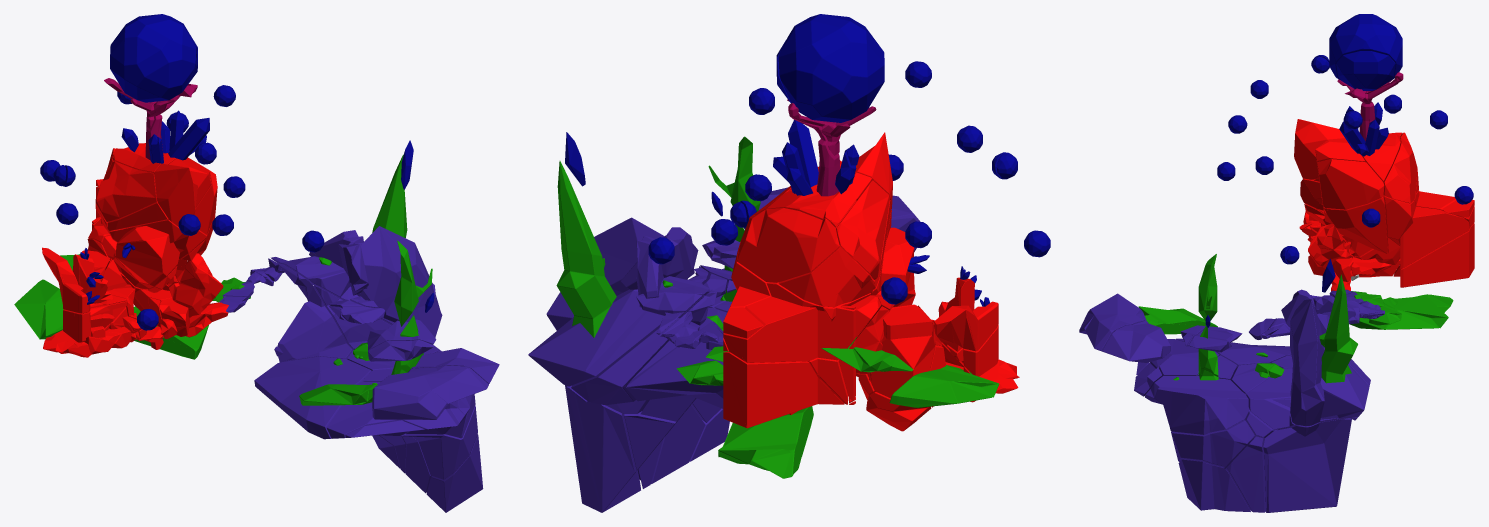
Rendered from tutorial level_0002.fbx.
The picture shows the model from 3 angles, left to right: view 1: azimuth 30°, elevation 25°; view 2: azimuth 150°, elevation 25°; view 3: azimuth 270°, elevation 25°; orthographic projection. The views are drawn at different scales.
Visible parts, largest first — view 1: start, end, floating_balls, pillars, Crystals_1, start_2, start_1, tree, start_3; view 2: end, start, floating_balls, pillars, Crystals_1, start_3, start_2, tree, start_7, start_5; view 3: start, end, floating_balls, pillars, start_3, Crystals_1, start_1, tree, rocks.
Part boxes in pixels (x1,y1,x2,y2): start: (219, 226, 499, 512); end: (42, 143, 228, 357); floating_balls: (40, 14, 324, 330); pillars: (372, 154, 432, 374); Crystals_1: (80, 110, 434, 312); start_2: (14, 279, 63, 339); start_1: (299, 384, 377, 405); tree: (104, 78, 197, 160); start_3: (133, 306, 208, 359); end: (723, 132, 1019, 431); start: (528, 187, 920, 512); floating_balls: (648, 14, 1050, 304); pillars: (556, 136, 760, 337); Crystals_1: (565, 120, 989, 306); start_3: (718, 406, 813, 478); start_2: (889, 365, 999, 407); tree: (787, 99, 876, 196); start_7: (821, 337, 913, 372); start_5: (676, 360, 723, 385); start: (1079, 289, 1384, 512); end: (1294, 119, 1474, 291); floating_balls: (1217, 14, 1473, 264); pillars: (1197, 254, 1357, 383); start_3: (1350, 294, 1453, 329); Crystals_1: (1205, 102, 1388, 327); start_1: (1138, 306, 1217, 334); tree: (1337, 72, 1403, 141); rocks: (1173, 294, 1361, 380).
Bounding box in the file's own units: 17199 × 19715 × 17628.
